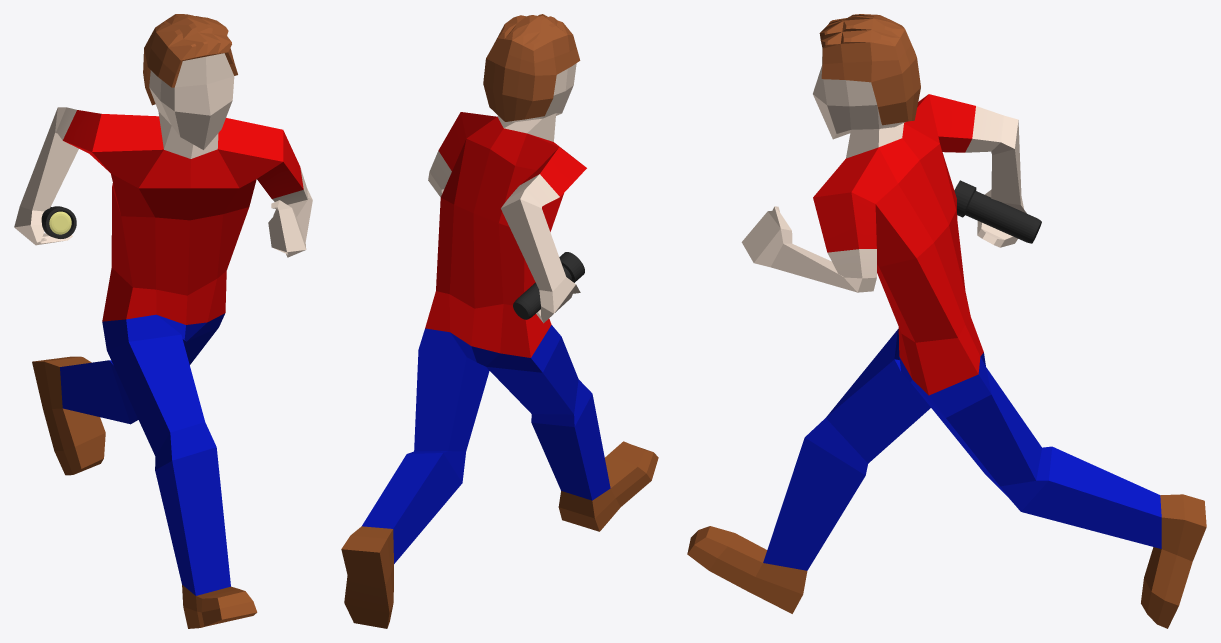
File: Human_running_16.fbx
3 renders of one model, left to right at view 1: azimuth 30°, elevation 25°; view 2: azimuth 150°, elevation 25°; view 3: azimuth 270°, elevation 25°, orthographic. The views are drawn at different scales.
Parts seen in each view (by area): view 1: Person.004, Flashlight; view 2: Person.004, Flashlight; view 3: Person.004, Flashlight.
Part boxes in pixels (x1,y1,x2,y2): Person.004: (14,14,312,628); Flashlight: (41,206,76,238); Person.004: (341,14,658,628); Flashlight: (513,252,584,319); Person.004: (687,14,1206,628); Flashlight: (954,180,1041,243).
Bounding box in the file's own units: 0.5948 × 1.47 × 1.16.
